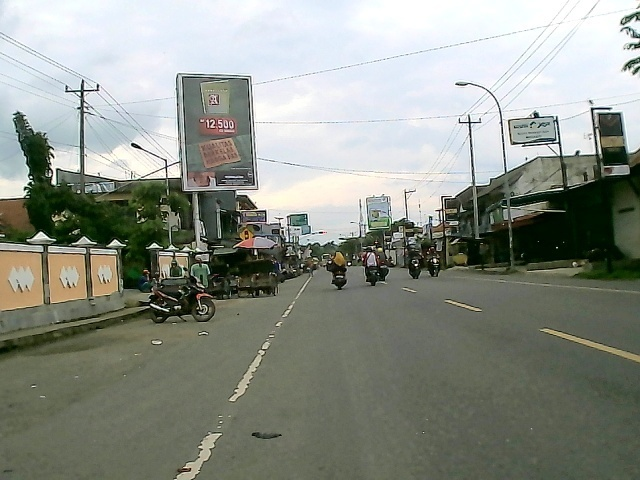Lampu isyarat: (237, 227, 254, 245)
